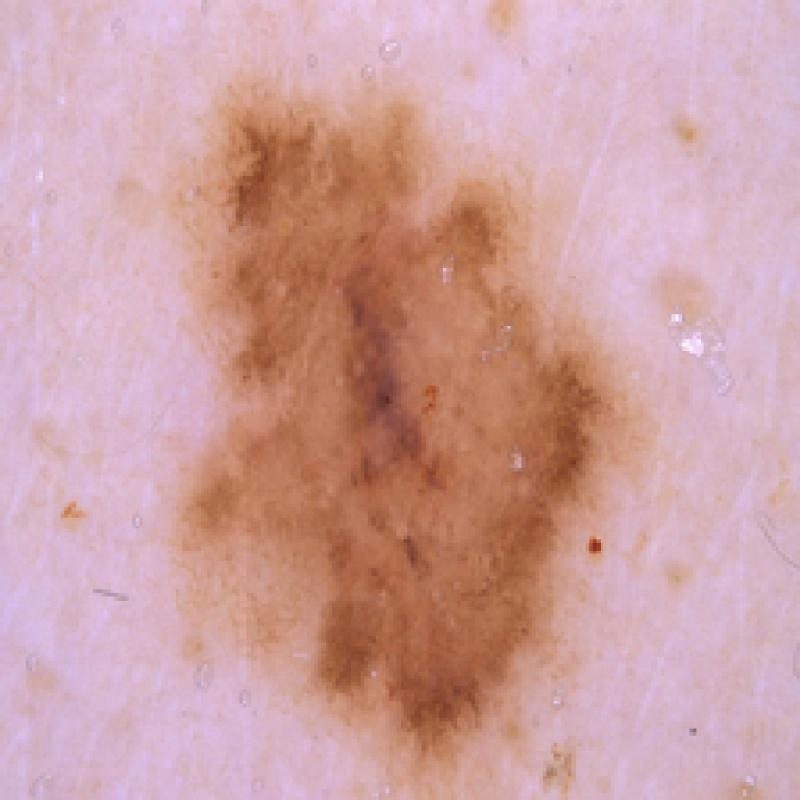benign: (138, 68, 676, 786)
